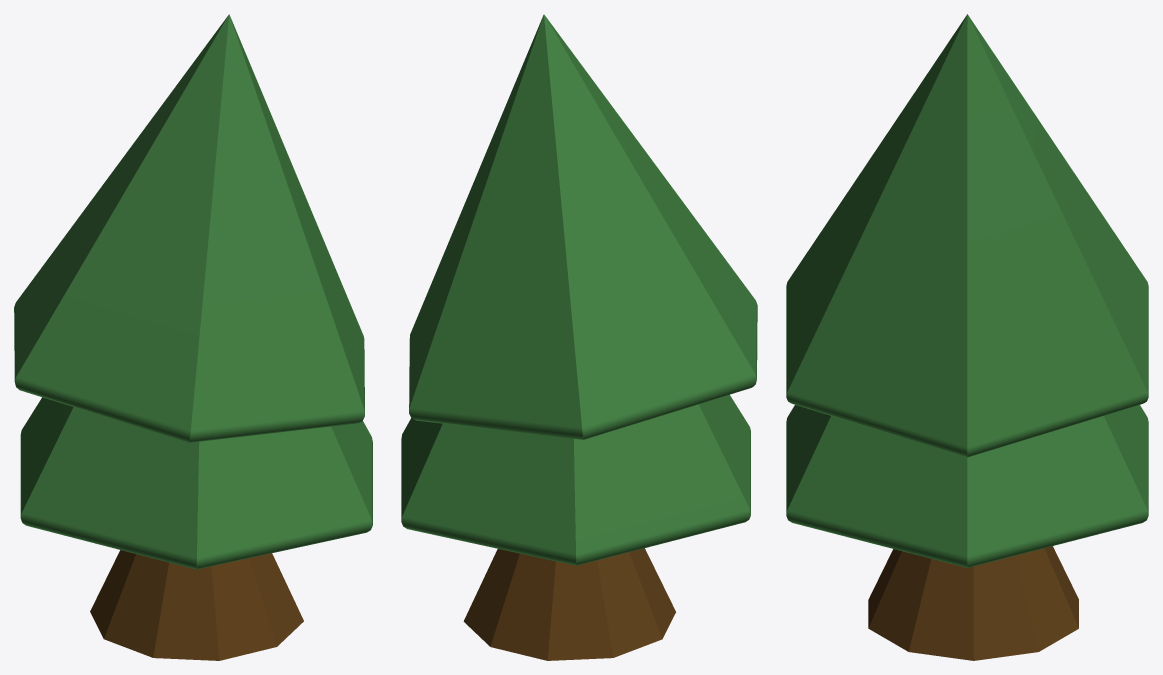
The model's file is Smallest_Tree_01.fbx.
The picture shows the model from 3 angles, left to right: view 1: azimuth 30°, elevation 25°; view 2: azimuth 150°, elevation 25°; view 3: azimuth 270°, elevation 25°; orthographic projection. The views are drawn at different scales.
Parts seen in each view (by area): view 1: Short_Tree_leaves_02, short_tree_leaves_01, Smallest_tree_Base; view 2: Short_Tree_leaves_02, short_tree_leaves_01, Smallest_tree_Base; view 3: Short_Tree_leaves_02, short_tree_leaves_01, Smallest_tree_Base.
Boxes of the visible parts, left/top/right/bottom form: Short_Tree_leaves_02: left=14, top=14, right=364, bottom=442; short_tree_leaves_01: left=20, top=397, right=372, bottom=569; Smallest_tree_Base: left=90, top=550, right=303, bottom=660; Short_Tree_leaves_02: left=409, top=14, right=757, bottom=439; short_tree_leaves_01: left=401, top=394, right=750, bottom=565; Smallest_tree_Base: left=463, top=548, right=675, bottom=660; Short_Tree_leaves_02: left=786, top=14, right=1148, bottom=457; short_tree_leaves_01: left=786, top=405, right=1148, bottom=567; Smallest_tree_Base: left=868, top=546, right=1078, bottom=660.
Size of the model in its own units: 66.28 by 106 by 56.47.
